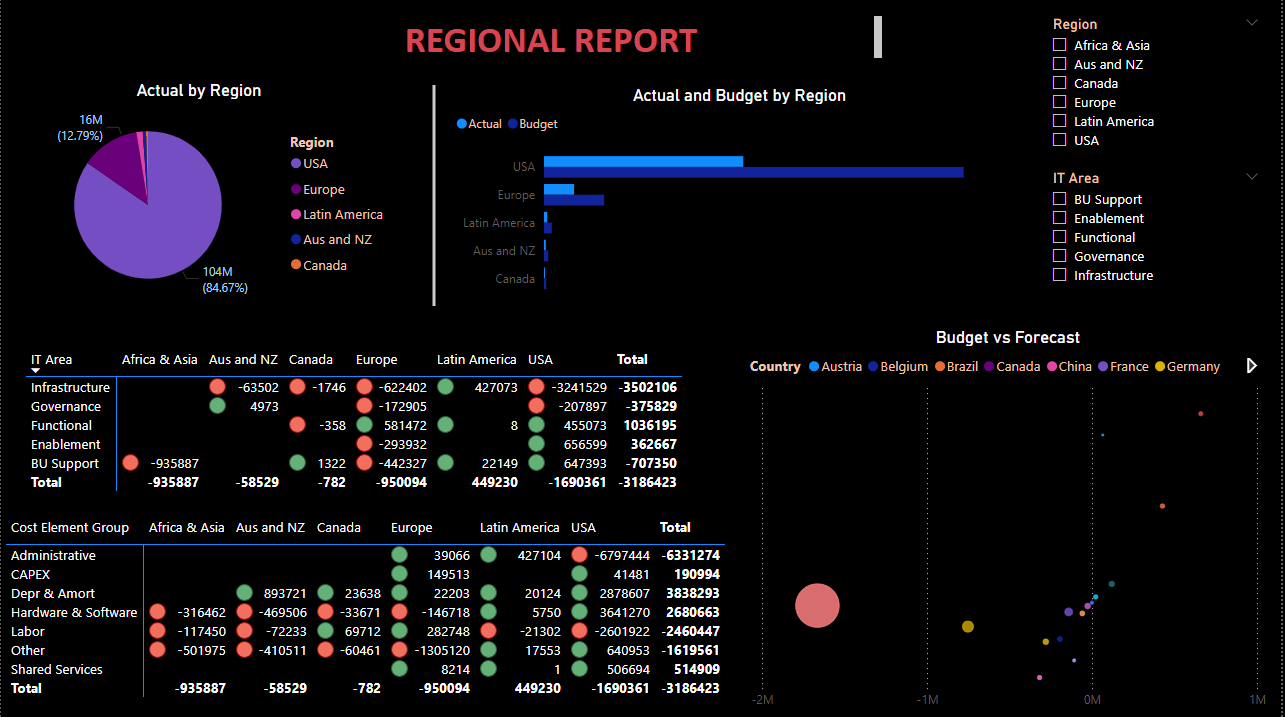

Layout of this report page (visuals, bound fields, positions):
{"tool":"powerbi","page":{"name":"Region","canvas":[1280,720],"ordinal":1},"visuals":[{"type":"clusteredBarChart","fields":{"Category":["Regions.Region"],"Y":["Sum(Actuals.Actual)","Sum(Budget.Budget)"]},"box":[450,87,577,221],"z":0},{"type":"pivotTable","fields":{"Rows":["Departments.IT Area"],"Columns":["Regions.Region"],"Values":["Budget.Budget vs Forecast"]},"box":[20,346,724,181],"z":1000},{"type":"pivotTable","fields":{"Rows":["CostElements.Cost Element Group"],"Columns":["Regions.Region"],"Values":["Budget.Budget vs Forecast"]},"box":[0,514,744,206],"z":2000},{"type":"scatterChart","title":"Budget vs Forecast","fields":{"Series":["Regions.Country"],"X":["Budget.Budget vs Forecast"],"Y":["Budget.Budget vs Forecast %"],"Size":["Sum(Forecast.Forecast)"]},"box":[744,329,526,391],"z":3000},{"type":"basicShape","box":[348,77,170,241],"z":4000},{"type":"textbox","box":[222,13,664,54],"z":5000},{"type":"pieChart","fields":{"Category":["Regions.Region"],"Y":["Sum(Actuals.Actual)"]},"box":[0,82,396,231],"z":6000},{"type":"slicer","fields":{"Values":["Regions.Region"]},"box":[1039,13,231,141],"z":6001},{"type":"slicer","fields":{"Values":["Departments.IT Area"]},"box":[1039,167,231,141],"z":6002}]}

Visuals, with their boxes in screenshot pixels (x1, y1, x2, y2), scaled from the page's 1280x720 canvas onto the 1285x717 screenshot:
clusteredBarChart - Regions.Region x Sum(Actuals.Actual): <box>452,87,1031,307</box>
pivotTable - Departments.IT Area x Regions.Region: <box>20,345,747,525</box>
pivotTable - CostElements.Cost Element Group x Regions.Region: <box>0,512,747,716</box>
"Budget vs Forecast" scatterChart: <box>747,328,1275,716</box>
basicShape: <box>349,77,520,317</box>
textbox: <box>223,13,889,67</box>
pieChart - Regions.Region x Sum(Actuals.Actual): <box>0,82,398,312</box>
slicer - Regions.Region: <box>1043,13,1275,153</box>
slicer - Departments.IT Area: <box>1043,166,1275,307</box>
